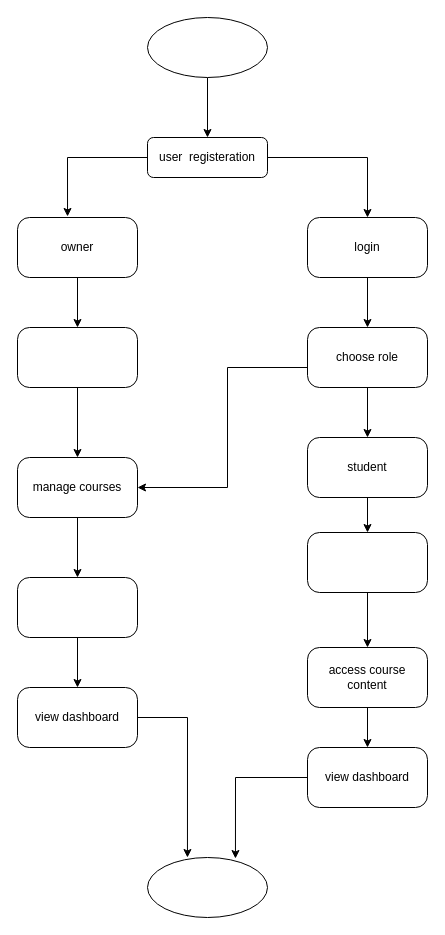
Some shapes in this 445 by 935 pixel diagram are drawn without their labels. Each missing label, with the box of its shape:
add new course: (16, 326, 138, 388)
end: (146, 856, 268, 918)
enroll in course: (306, 532, 428, 592)
start: (146, 16, 268, 78)
view student progress: (16, 576, 138, 638)
